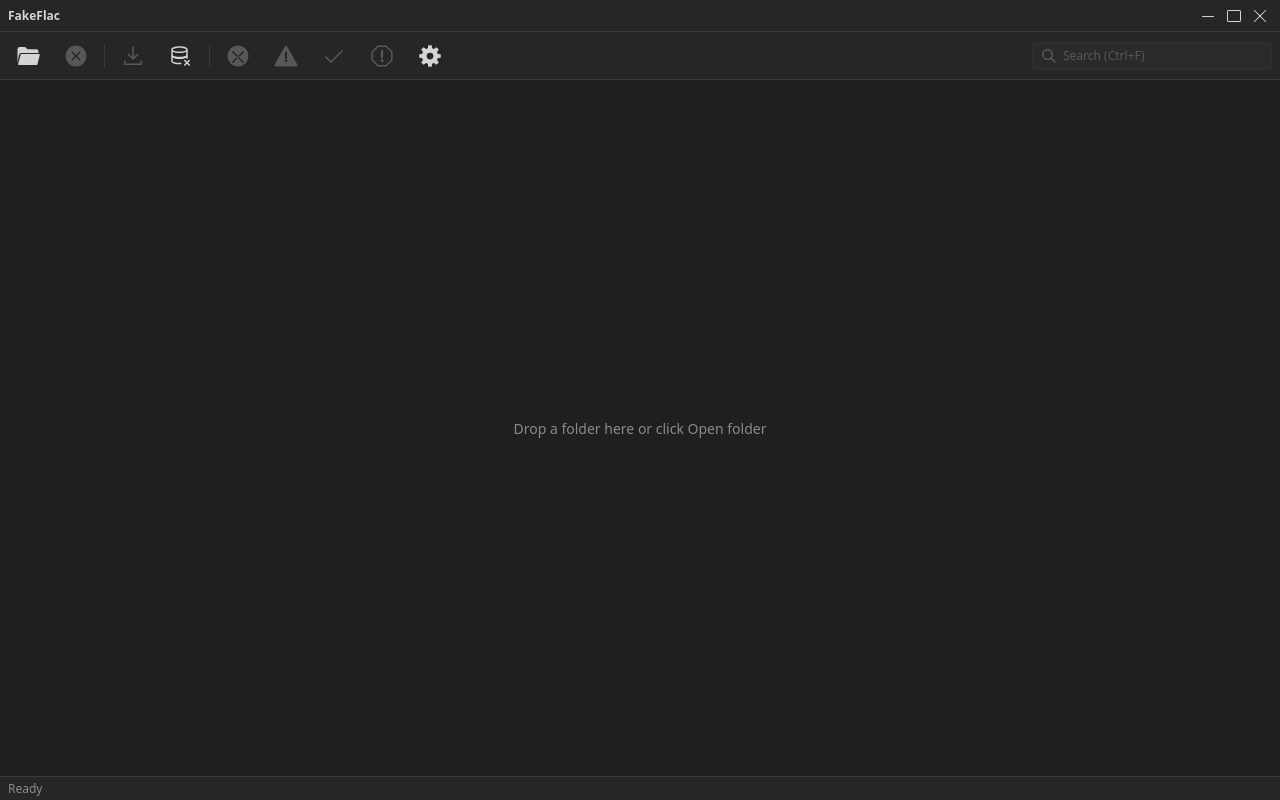
Test: Scenario Outline: A failed save preserves the old preference and permits retry (@RF-13 @RNF-04) › SETTINGS_WRITE_FAILED: the Spanish draft, the localized failure, English kept; the retry saves Spanish
Expected: the element named "Main toolbar" is shown, [0,32,1279,80]
Click the button named "Settings" at [430, 56], box [410,36,450,76]
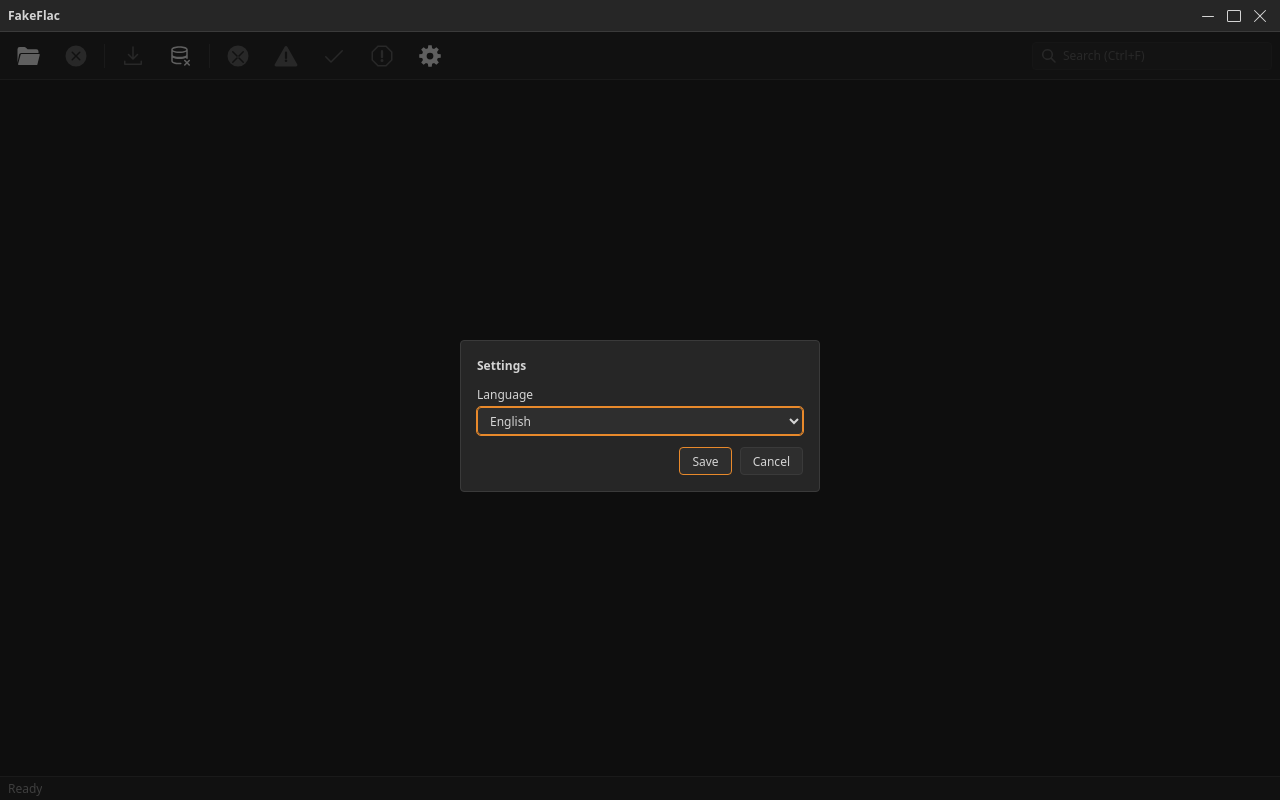
Now the dialog is shown, box [460,340,820,492]
Select "Español" in the dropdown at [640, 421], box [477,407,803,435]
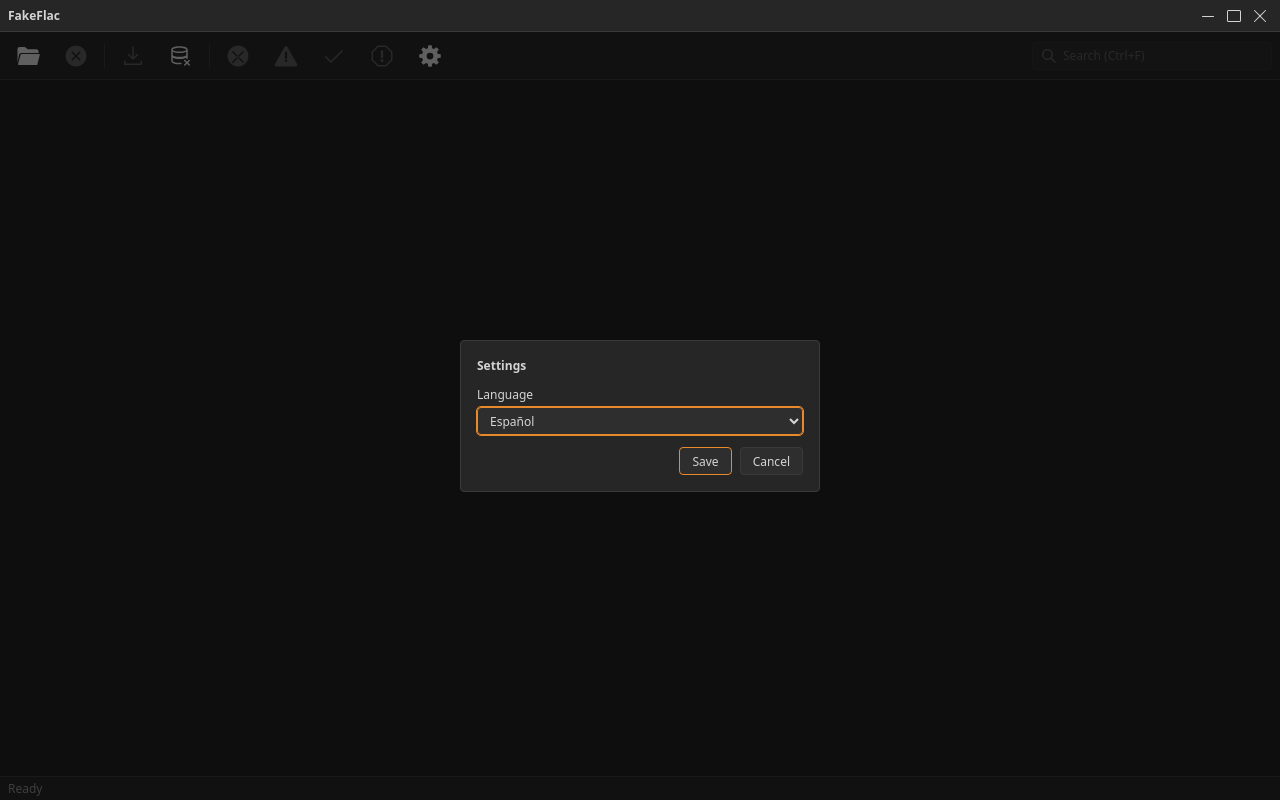
Click the button "Save" at [706, 461], box [680,447,732,475]
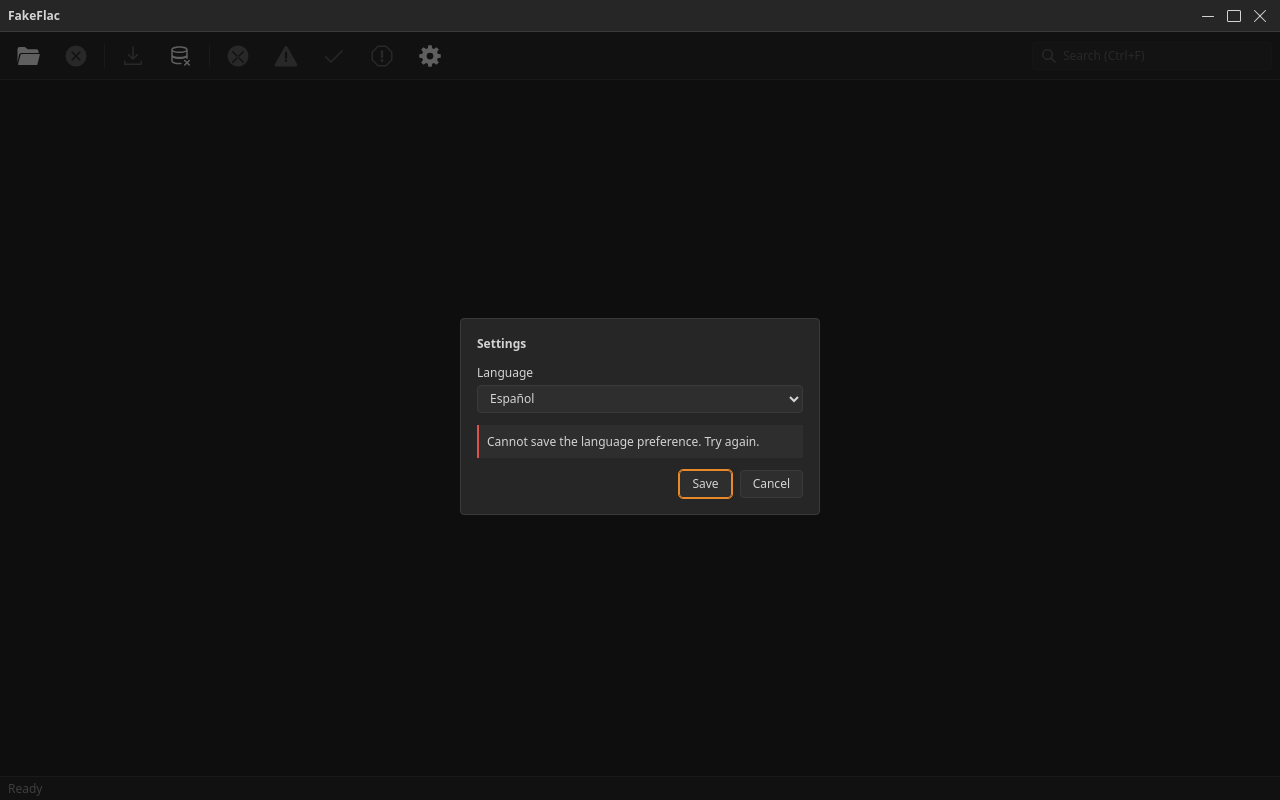
Expected: the button named "Open folder" is shown, [8,36,48,76]
Now the dropdown is enabled, box [477,384,803,412]
Now the message reads "Cannot save the language preference. Try again.", box [487,432,759,450]
Click the button "Save" at [706, 484], box [680,470,732,498]
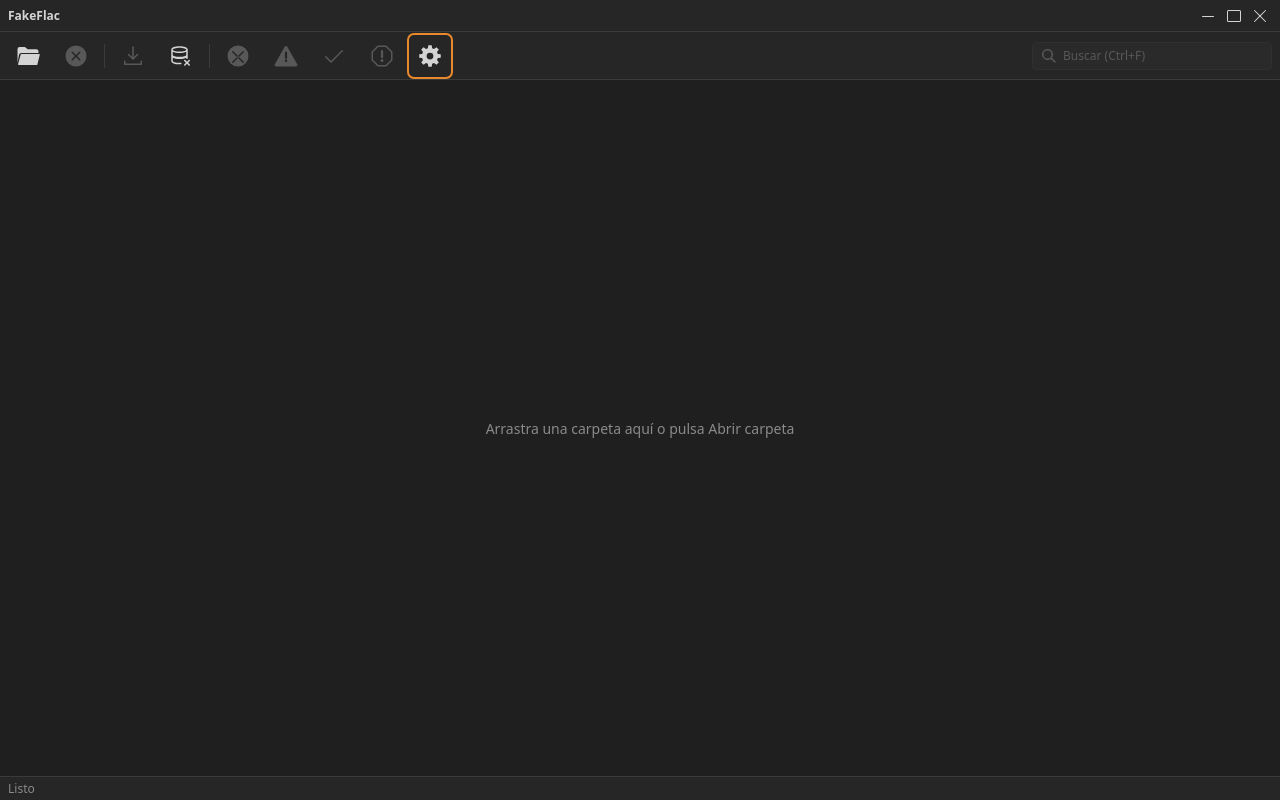
Now the dialog is gone
Now the text "Listo" is shown, box [8,780,35,797]
Now the text "Arrastra una carpeta aquí o pulsa Abrir carpeta" is shown, box [486,418,794,438]
